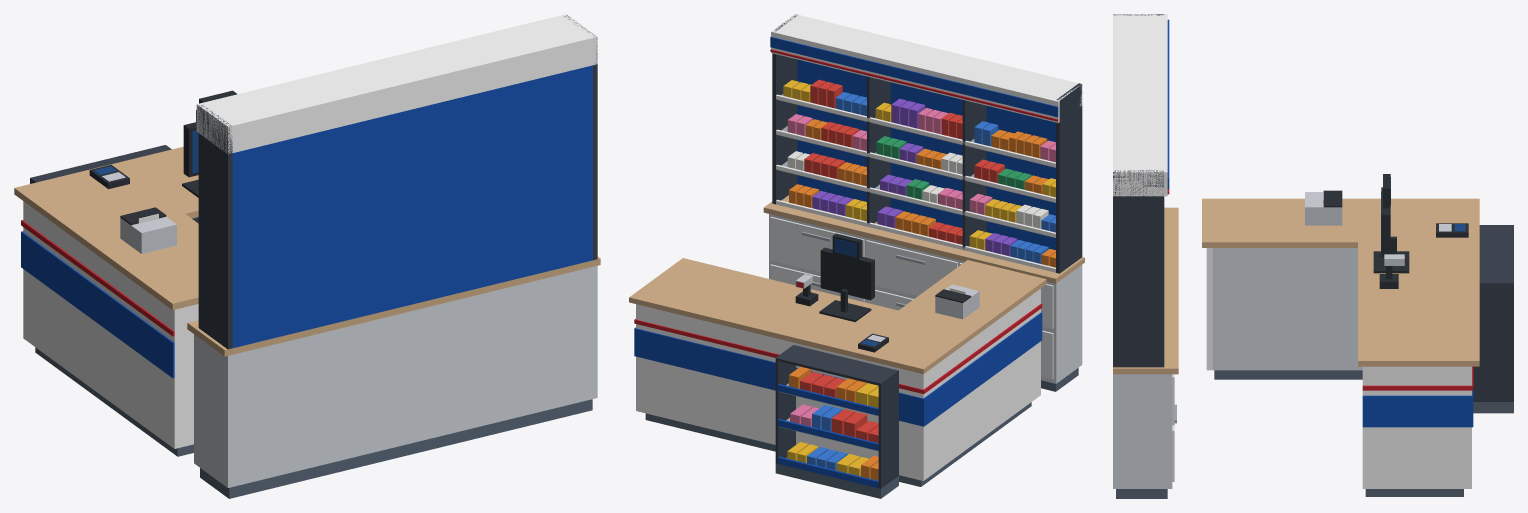
File: Counter.obj
3 renders of one model, left to right at view 1: azimuth 30°, elevation 25°; view 2: azimuth 150°, elevation 25°; view 3: azimuth 270°, elevation 25°, orthographic. The views are drawn at different scales.
Parts seen in each view (by area): view 1: BackShelf, Counter, ReceiptPrinter, POS, FrontRack, CardReader; view 2: BackShelf, Counter, BackShelf_Items, FrontRack, FrontRack_Items, POS, ReceiptPrinter, Scanner; view 3: Counter, BackShelf, FrontRack, POS, ReceiptPrinter, Scanner, CardReader.
Boxes of the visible parts, left/top/right/bottom form: BackShelf: left=187, top=14, right=600, bottom=498; Counter: left=14, top=146, right=198, bottom=456; ReceiptPrinter: left=120, top=207, right=176, bottom=253; POS: left=182, top=90, right=236, bottom=197; FrontRack: left=30, top=145, right=171, bottom=183; CardReader: left=89, top=164, right=129, bottom=189; BackShelf: left=763, top=14, right=1084, bottom=391; Counter: left=629, top=258, right=1046, bottom=486; BackShelf_Items: left=783, top=79, right=1055, bottom=267; FrontRack: left=775, top=345, right=898, bottom=498; FrontRack_Items: left=787, top=366, right=878, bottom=480; POS: left=819, top=233, right=874, bottom=322; ReceiptPrinter: left=935, top=284, right=979, bottom=319; Scanner: left=795, top=274, right=818, bottom=306; Counter: left=1202, top=198, right=1479, bottom=496; BackShelf: left=1113, top=14, right=1178, bottom=498; FrontRack: left=1473, top=225, right=1513, bottom=413; POS: left=1373, top=174, right=1409, bottom=273; ReceiptPrinter: left=1305, top=190, right=1342, bottom=225; Scanner: left=1379, top=254, right=1404, bottom=288; CardReader: left=1436, top=223, right=1468, bottom=237.
Size of the model in its own units: 2.46 by 2.32 by 2.57.
